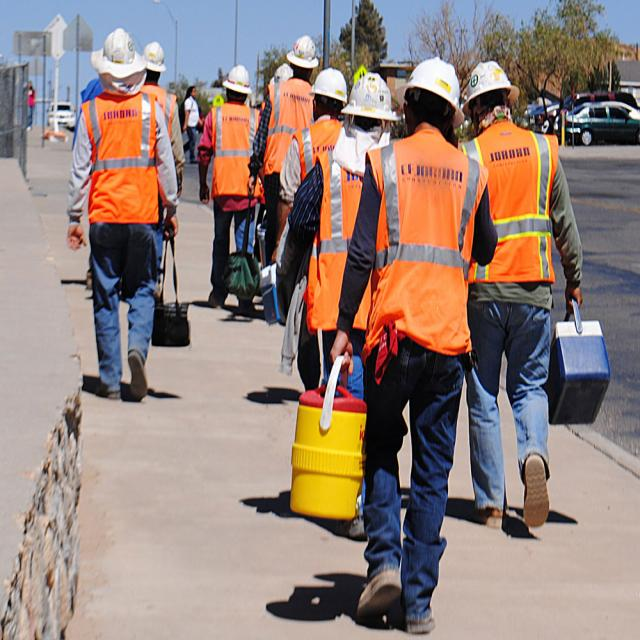Reflective-Jacket: (362, 140, 489, 352), (466, 124, 566, 294), (302, 128, 364, 335), (79, 92, 171, 226), (212, 103, 257, 203)
Safety-Helmet: (401, 52, 463, 113), (344, 68, 398, 121), (464, 54, 518, 106), (92, 26, 146, 76), (311, 64, 349, 105), (286, 31, 320, 70), (223, 61, 254, 94), (143, 38, 169, 73)
